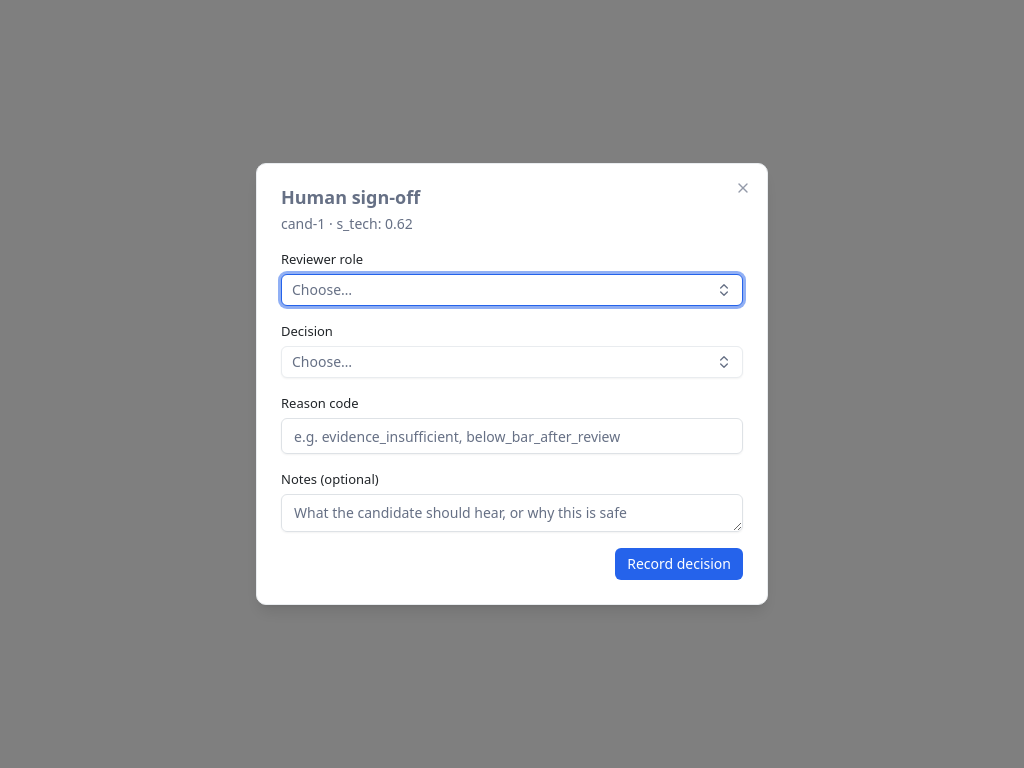
Test: OverrideDialog › records the decision and shows the audit receipt
Click the button named "Reviewer role" at (322,290), box [281,274,743,306]
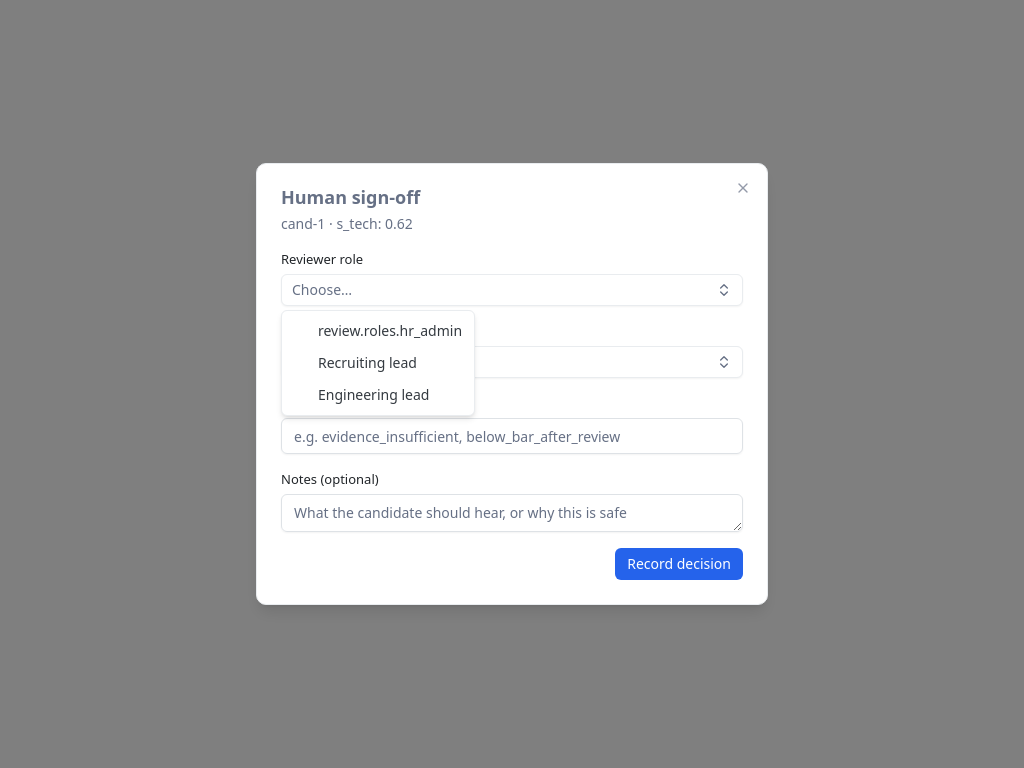
Click the menu item "Recruiting lead" at (367,362), box [318,353,417,372]
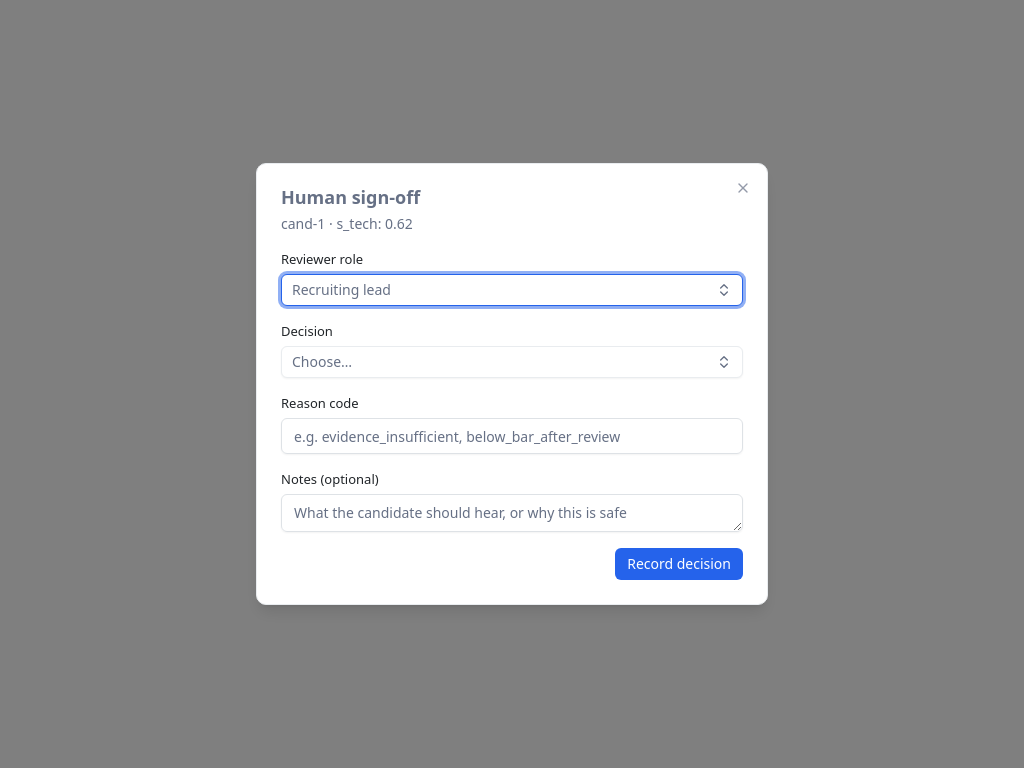
Click the button named "Decision" at (322,362), box [281,346,743,378]
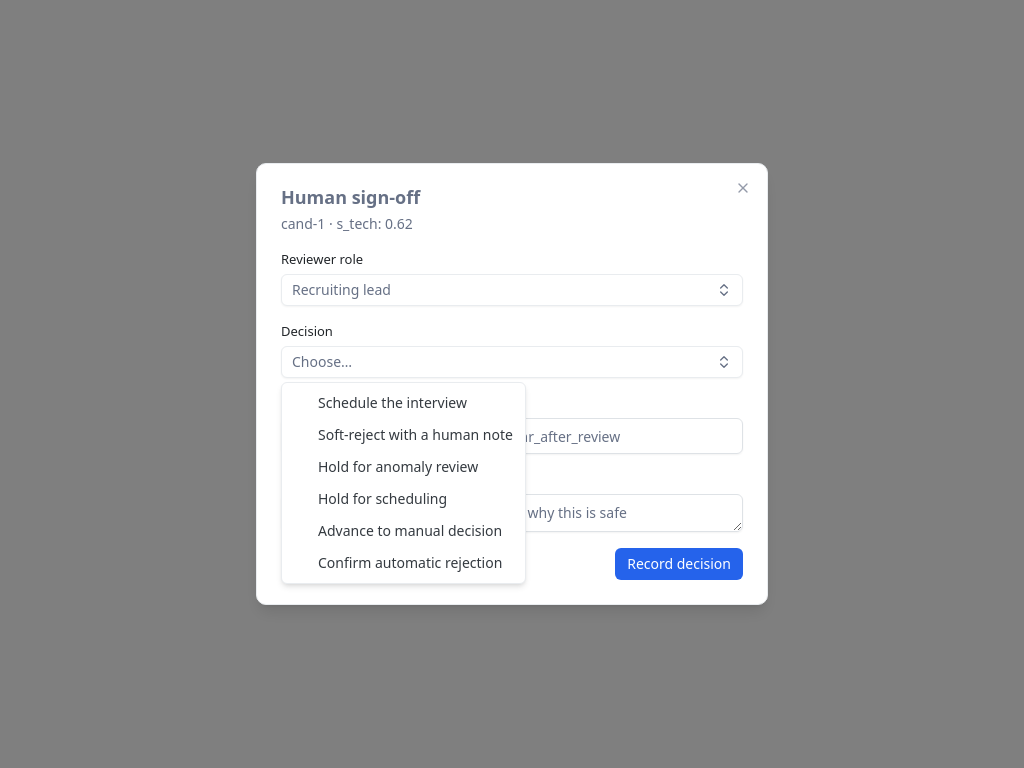
Click the menu item "Soft-reject with a human note" at (415,434), box [318,425,513,444]
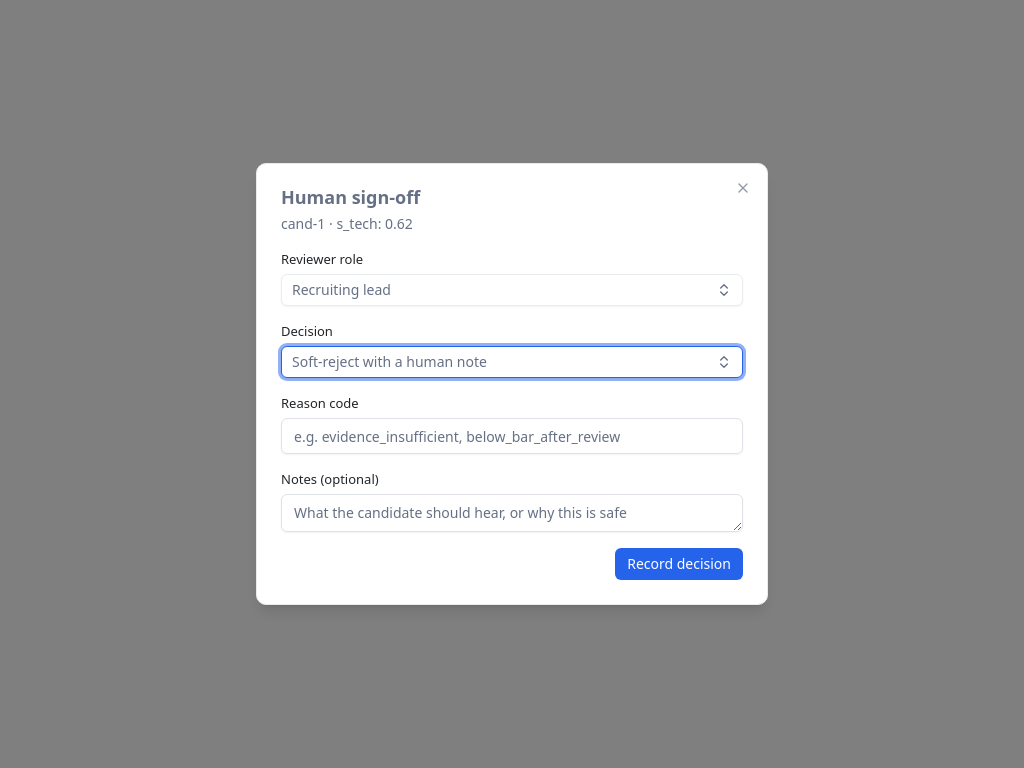
Type "below_bar_after_review" into the field labelled "Reason code" at (512,436), box [281,418,743,454]
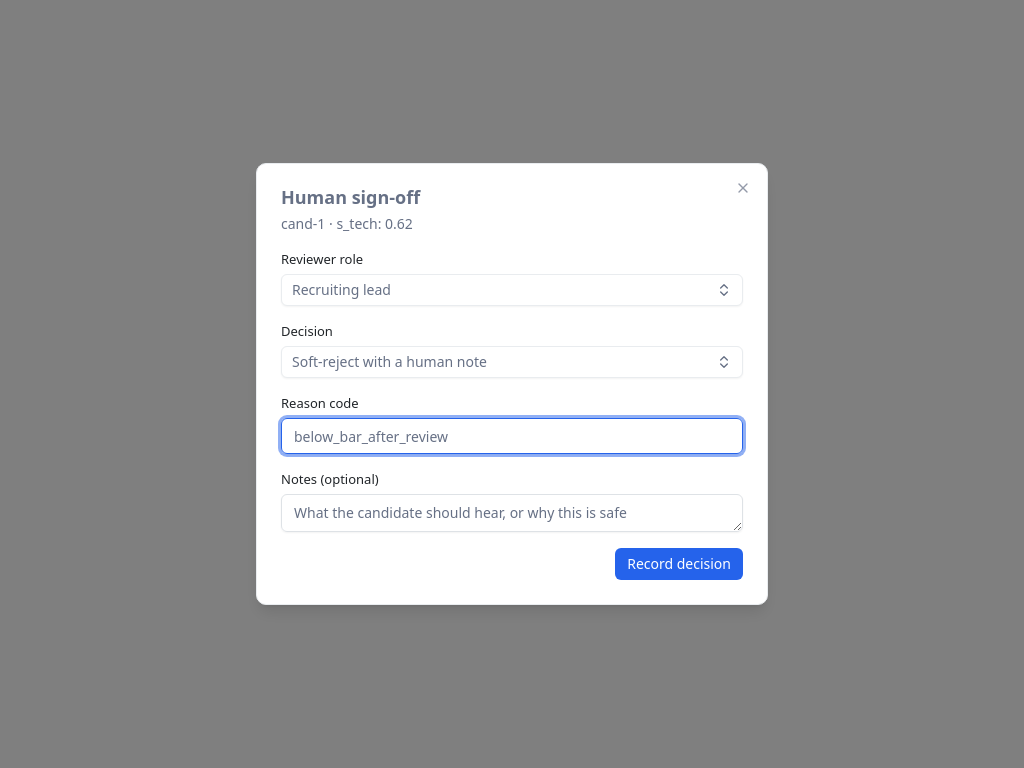
Click the button "Record decision" at (679,564), box [615,548,743,580]
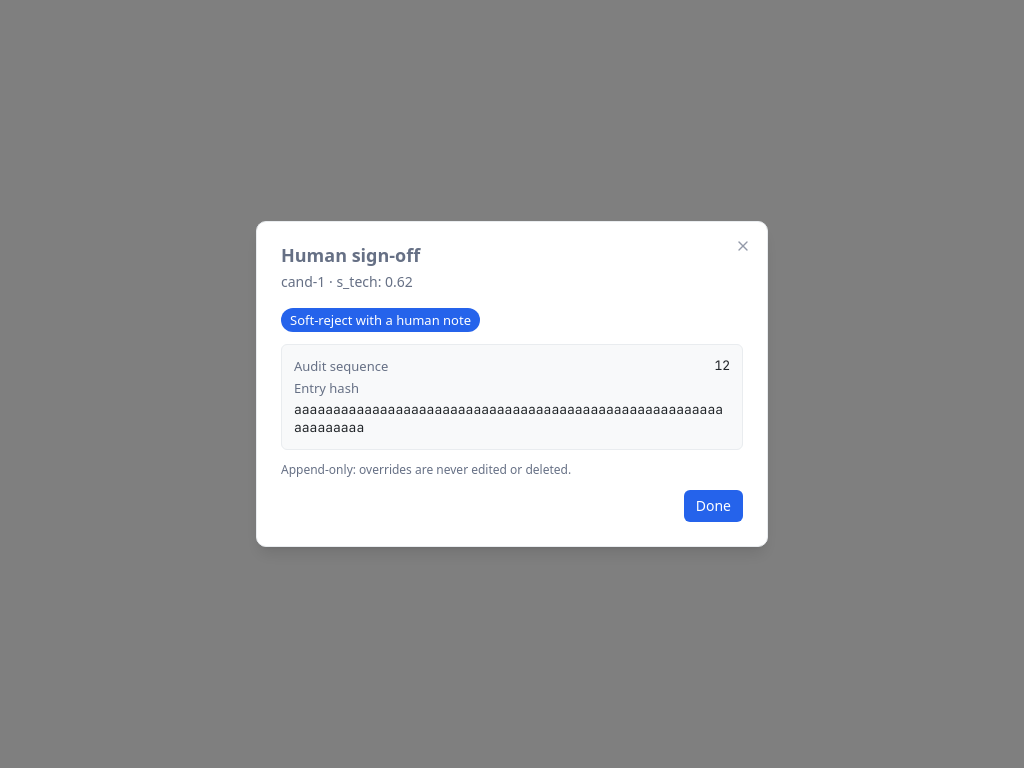
Result: the text "Soft-reject with a human note" is shown at [281,308,480,332]
Result: the text "12" is shown at [714,357,730,375]
